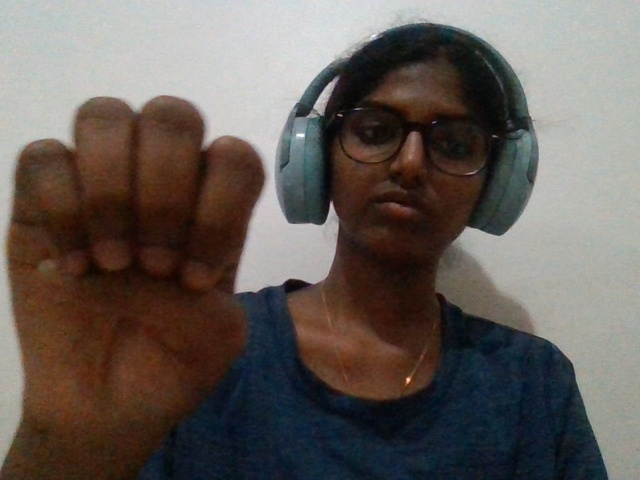E: (2, 90, 270, 480)
